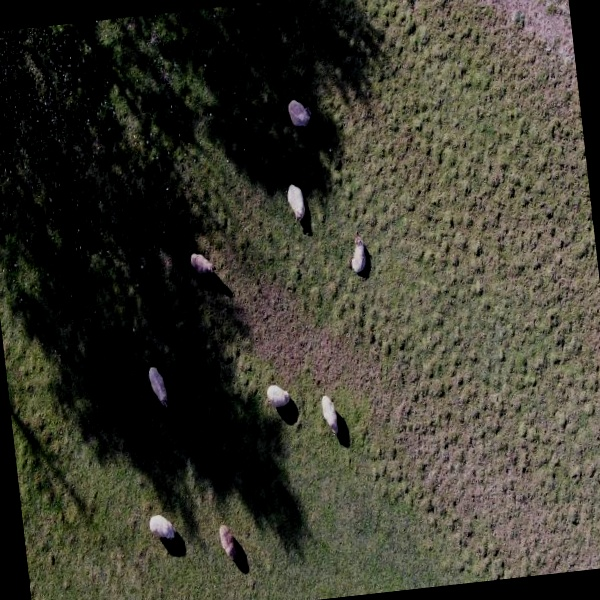sheep: (313, 388, 347, 442), (144, 361, 172, 414), (141, 509, 175, 549), (282, 175, 311, 221), (265, 375, 296, 417), (343, 233, 374, 272), (216, 518, 240, 565), (285, 95, 313, 132), (185, 251, 213, 284)
